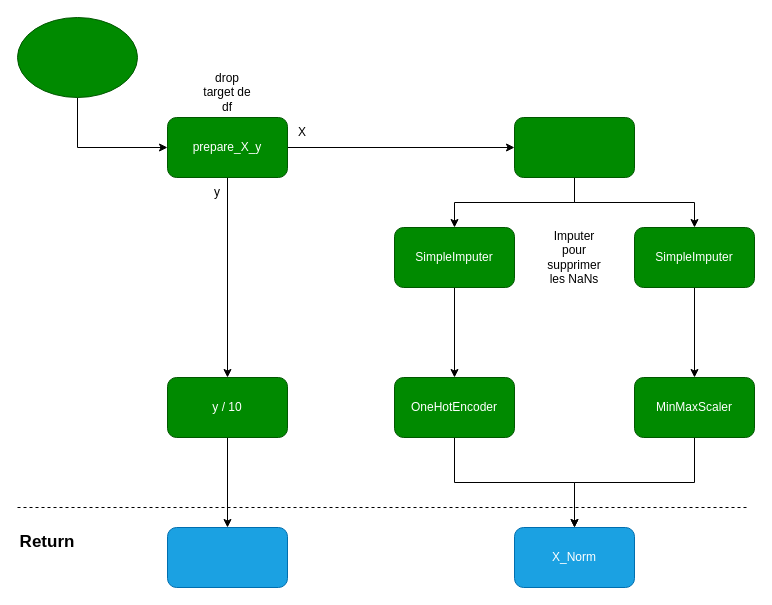
This 772x605 diagram has some shape labels left out. Here are the shapes that lost their labels. From the top down, the centre of each, then its label:
(77,57): df
(574,147): Séparation cat/num
(227,557): Y_norm
